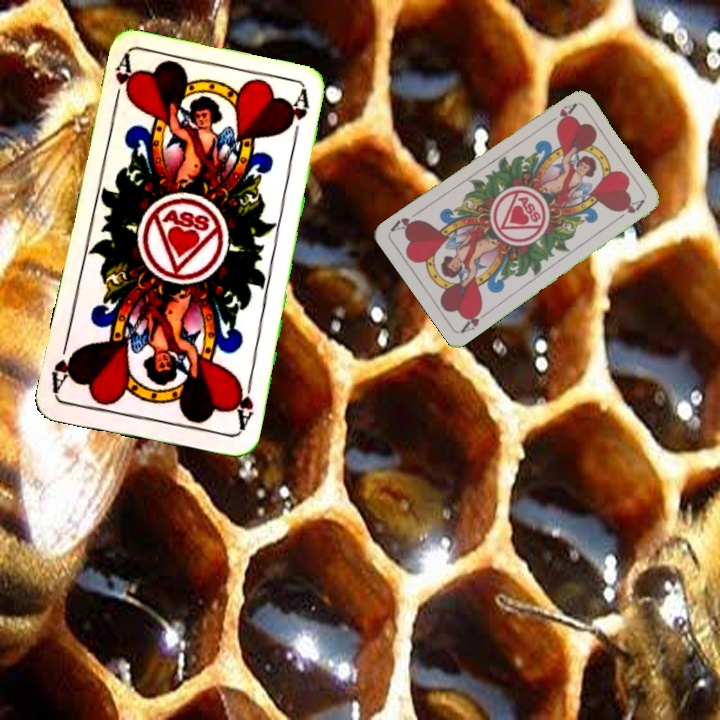HA: (109, 52, 138, 111), (229, 375, 256, 434), (457, 304, 493, 335), (542, 99, 579, 128)
